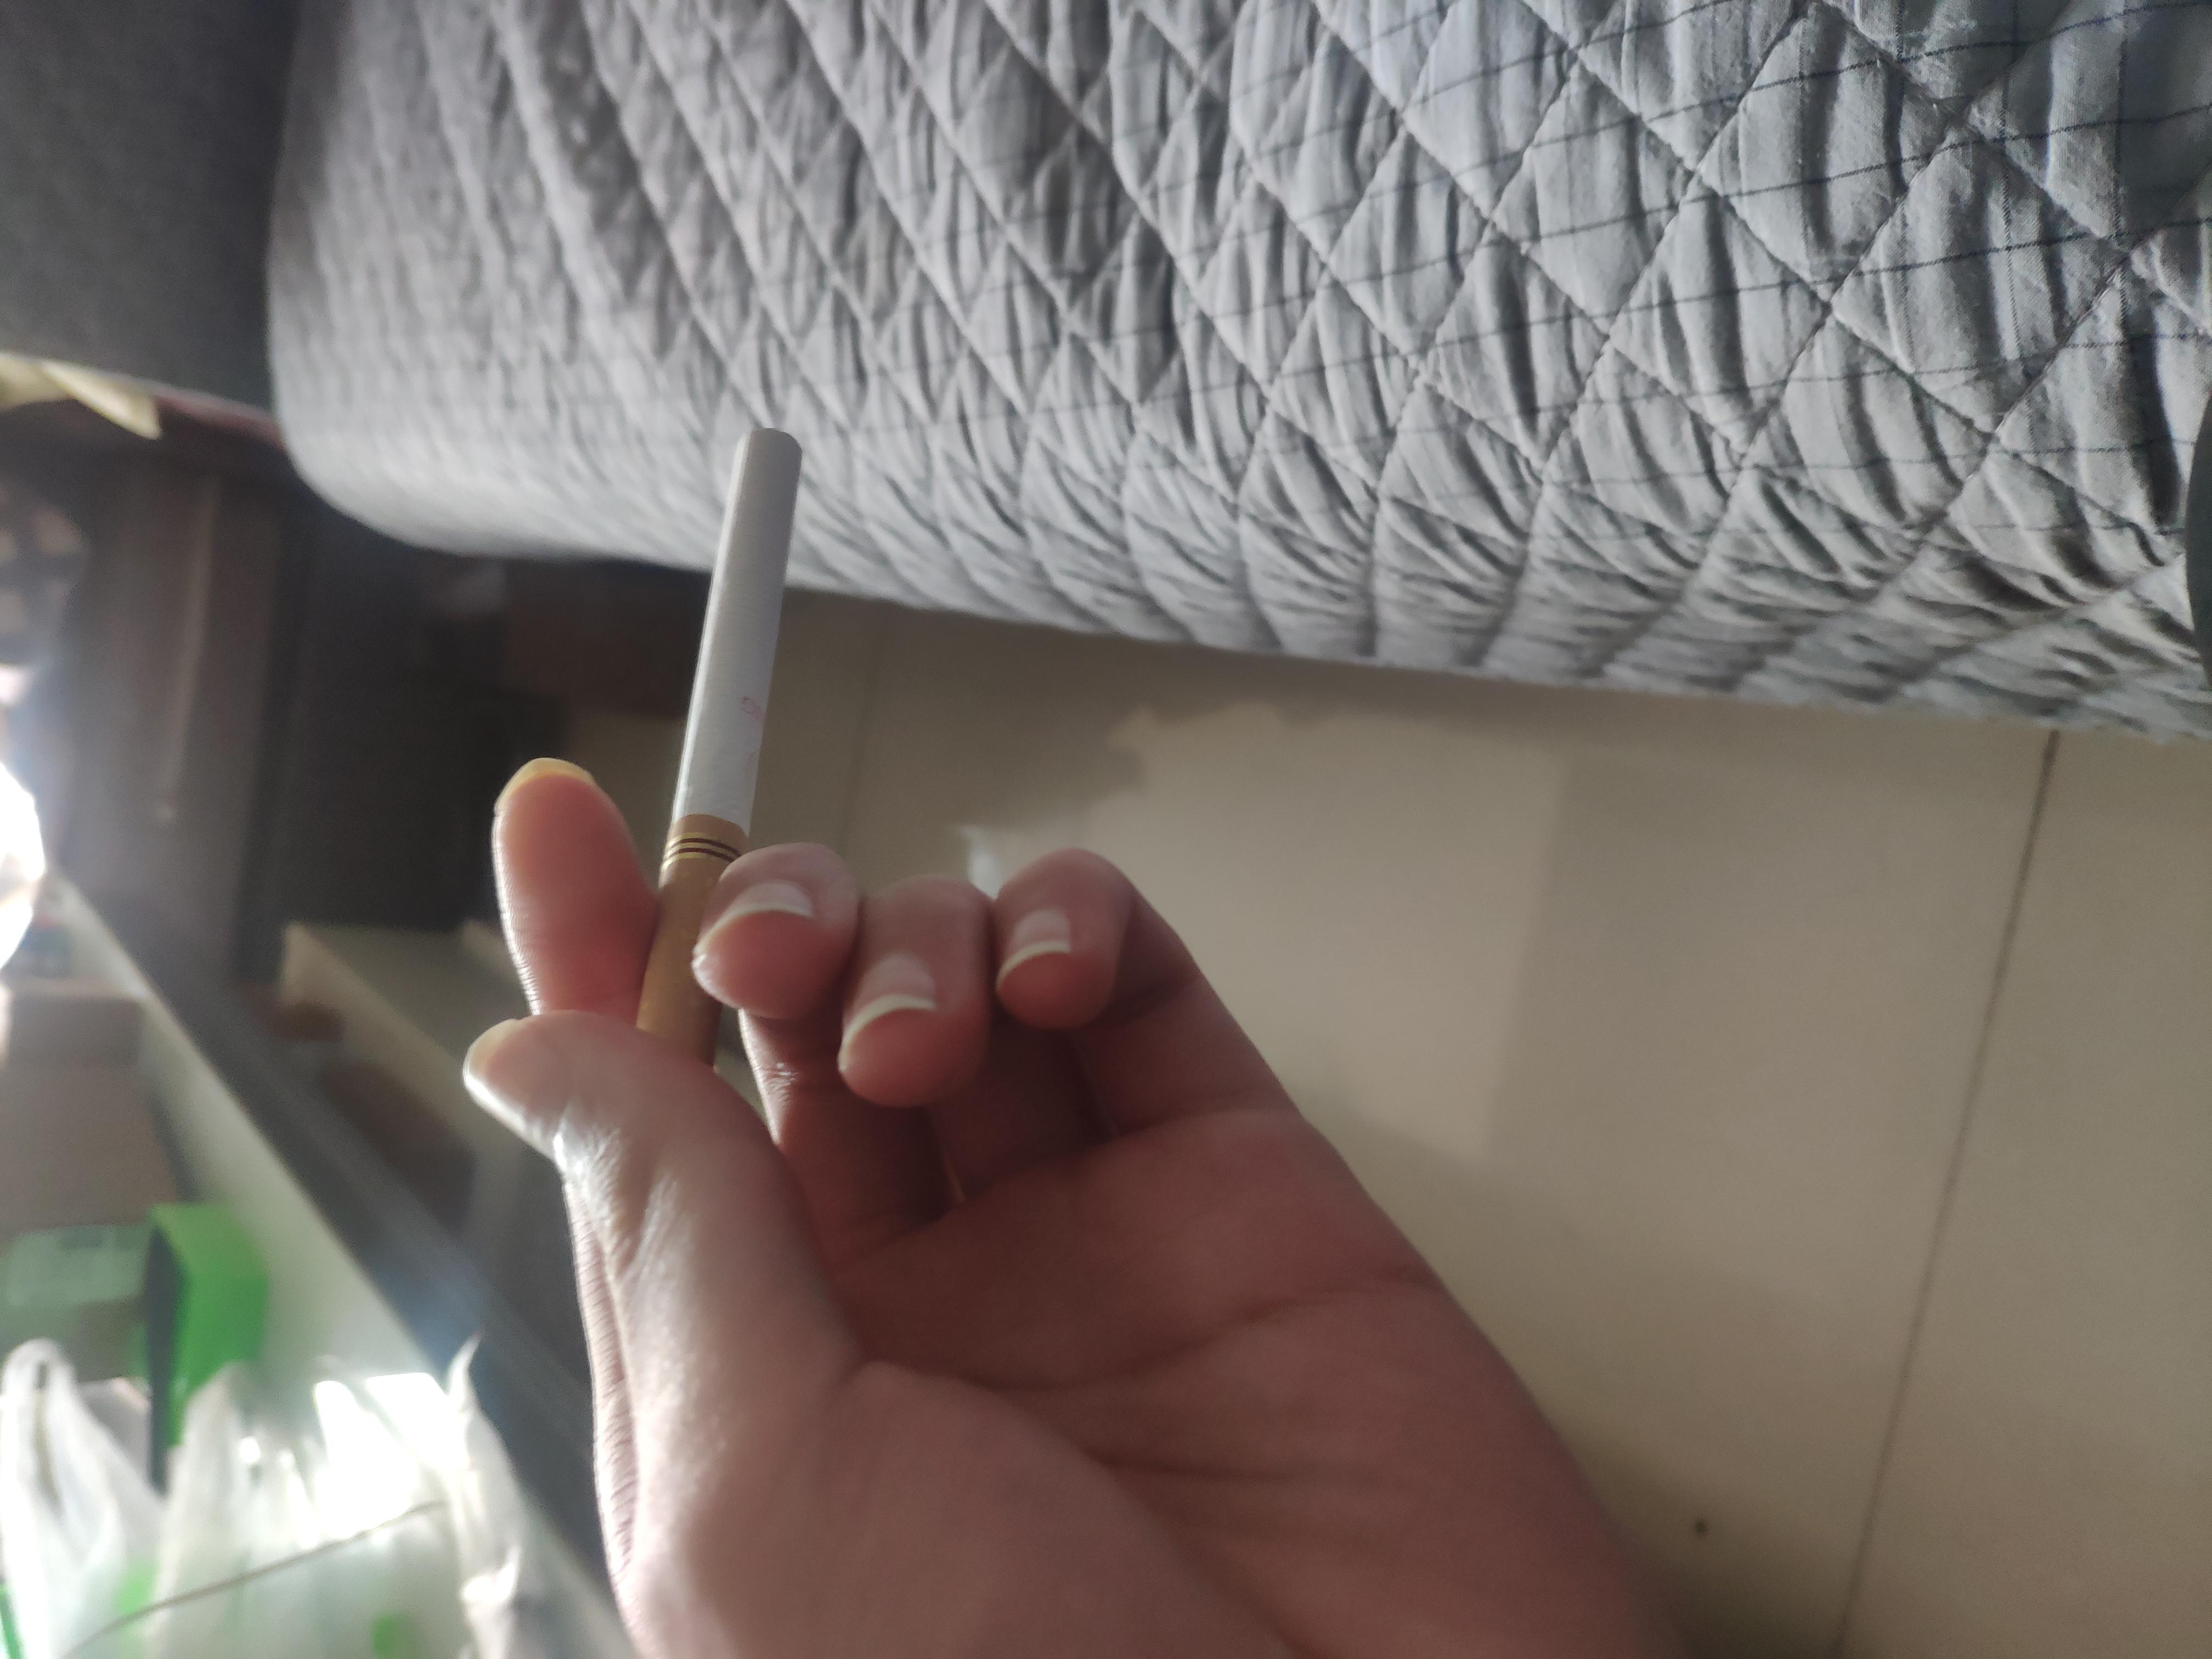smoke: (780, 474, 1655, 603)
